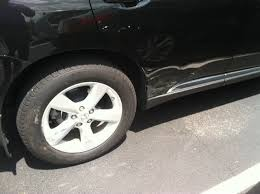Dent: (134, 33, 212, 104)
